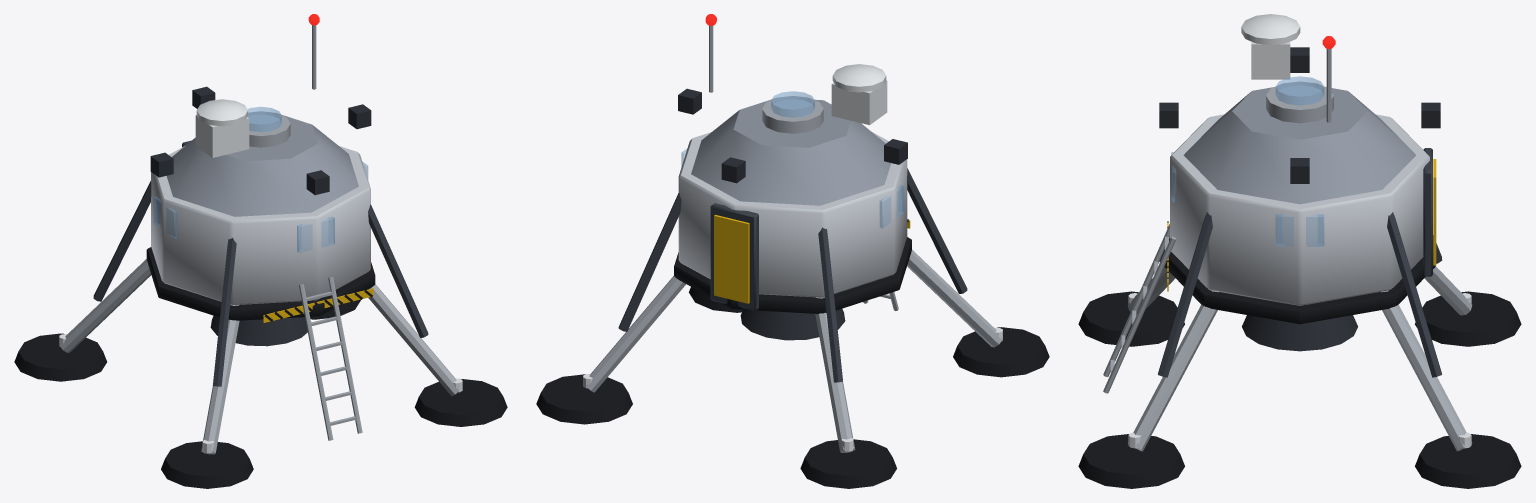
Rendered from craft_lander.glb.
3 views of the same model, side by side, from view 1: azimuth 30°, elevation 25°; view 2: azimuth 150°, elevation 25°; view 3: azimuth 270°, elevation 25° (orthographic). The views are drawn at different scales.
Parts seen in each view (by area): view 1: craft_lander; view 2: craft_lander; view 3: craft_lander.
Part boxes in pixels (x1,y1,x2,y2): craft_lander: (14,14,507,488); craft_lander: (536,14,1049,488); craft_lander: (1078,14,1521,488).
Bounding box in the file's own units: 4.56 × 4.5 × 4.56.
